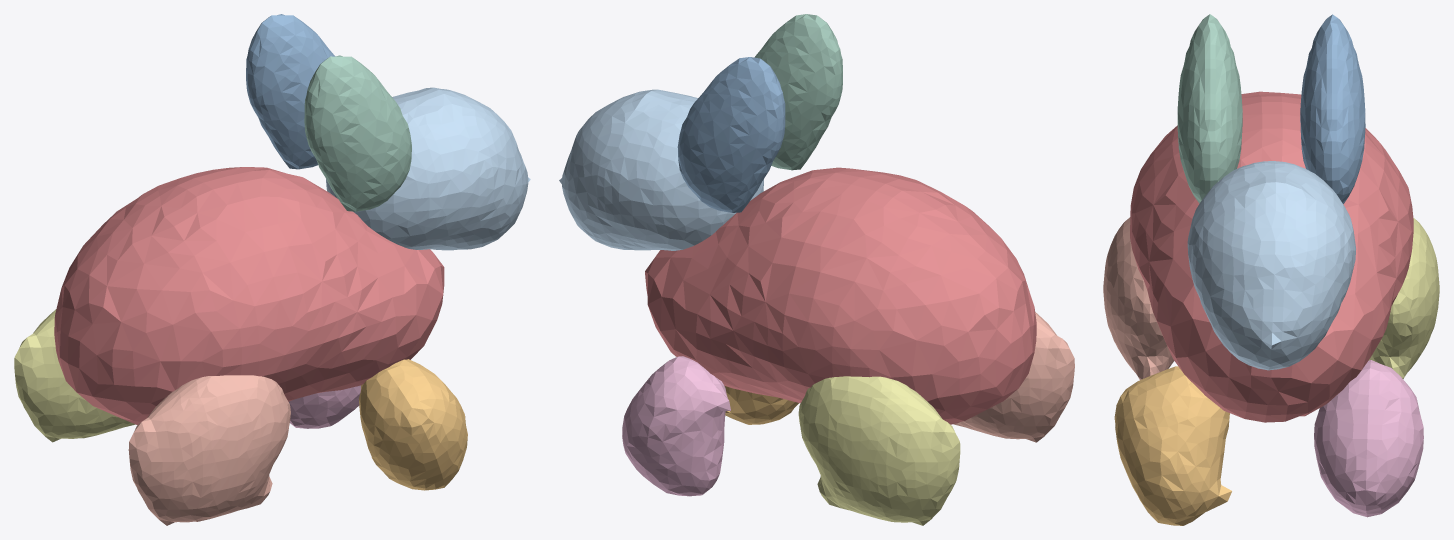
Rendered from 105326_assembly.glb.
3 views of the same model, side by side, from view 1: azimuth 30°, elevation 25°; view 2: azimuth 150°, elevation 25°; view 3: azimuth 270°, elevation 25° (orthographic). The views are drawn at different scales.
Parts seen in each view (by area): view 1: part_00, part_01, part_06, part_05, part_02, part_07, part_04, part_03; view 2: part_00, part_04, part_06, part_07, part_03, part_05, part_01, part_02; view 3: part_00, part_06, part_02, part_03, part_05, part_07, part_01, part_04.
Part boxes in pixels (x1=…): part_00: x1=54, y1=167, x2=444, y2=424; part_01: x1=128, y1=375, x2=290, y2=525; part_06: x1=326, y1=87, x2=530, y2=250; part_05: x1=304, y1=55, x2=411, y2=211; part_02: x1=358, y1=359, x2=467, y2=490; part_07: x1=246, y1=14, x2=335, y2=169; part_04: x1=14, y1=309, x2=135, y2=442; part_03: x1=289, y1=385, x2=360, y2=428; part_00: x1=645, y1=167, x2=1036, y2=424; part_04: x1=798, y1=376, x2=960, y2=525; part_06: x1=559, y1=89, x2=763, y2=250; part_07: x1=677, y1=57, x2=785, y2=212; part_03: x1=622, y1=356, x2=730, y2=496; part_05: x1=754, y1=14, x2=842, y2=170; part_01: x1=953, y1=312, x2=1074, y2=442; part_02: x1=724, y1=386, x2=798, y2=424; part_00: x1=1130, y1=91, x2=1413, y2=422; part_06: x1=1187, y1=161, x2=1355, y2=370; part_02: x1=1114, y1=366, x2=1231, y2=525; part_03: x1=1314, y1=360, x2=1423, y2=517; part_05: x1=1177, y1=14, x2=1242, y2=203; part_07: x1=1300, y1=14, x2=1365, y2=203; part_01: x1=1103, y1=217, x2=1173, y2=379; part_04: x1=1369, y1=218, x2=1439, y2=378.
Size of the model in its own units: 1.26 by 1.14 by 0.7427.
